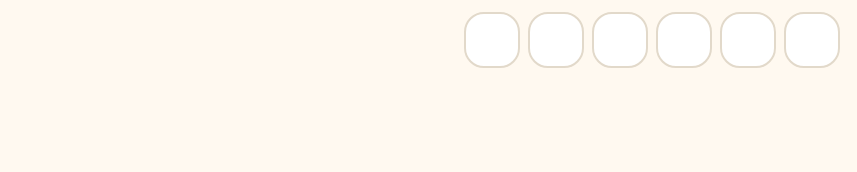
Scenario: CodeInput › fills box by box, upper-cases, and skips letters a code never has
The width and height of the screenshot is (857, 172).
Step 1. Type "ab0c" into the field named "Letter 1" → [492, 40], box [464,12,520,68]
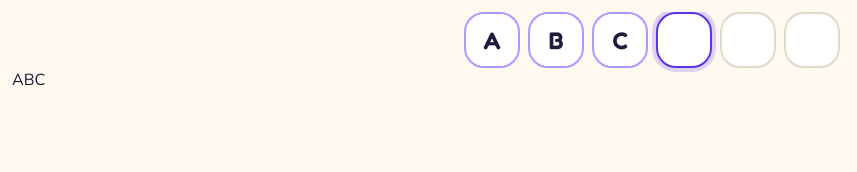
Expected: the text "ABC" is shown, [12,69,45,91]
